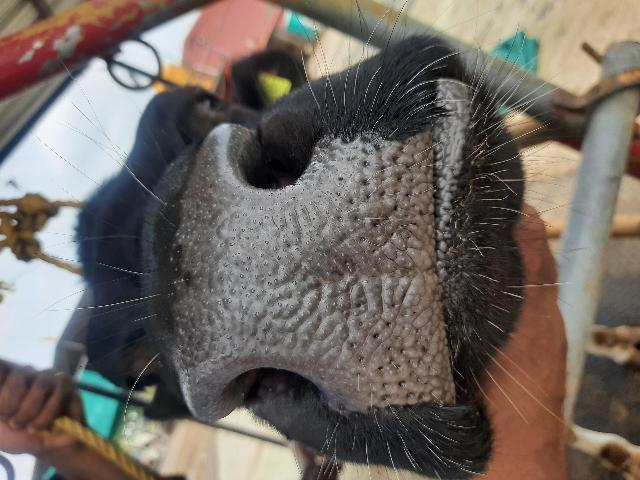Muzzle: (200, 189, 446, 379)
